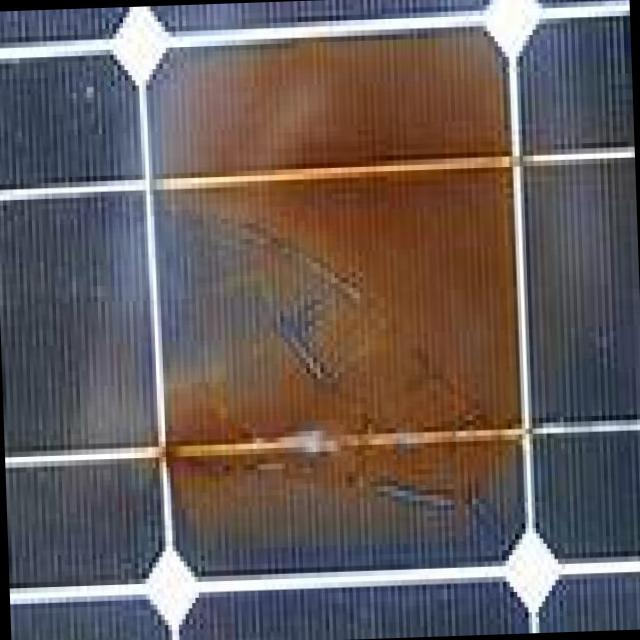faulty: (139, 34, 544, 564)
